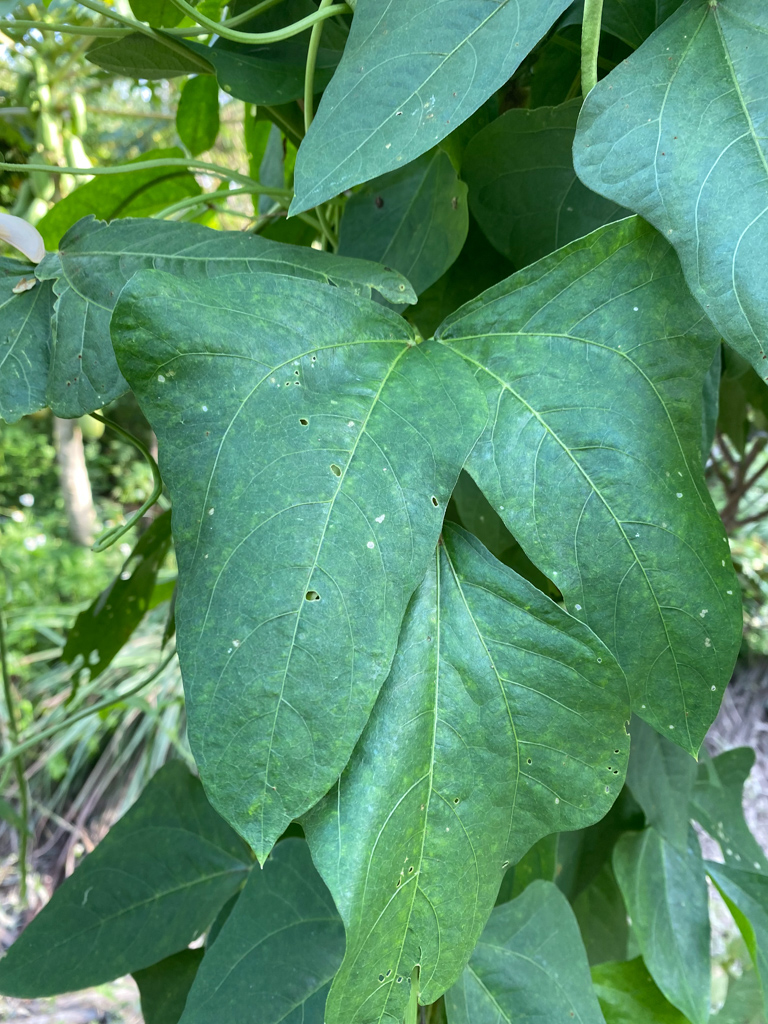frog-eye leafspot: (289, 410, 355, 484), (275, 342, 326, 395), (287, 573, 329, 611), (387, 854, 421, 895), (600, 738, 621, 800), (371, 963, 408, 993), (518, 750, 540, 774), (420, 490, 444, 510), (448, 789, 465, 812)
